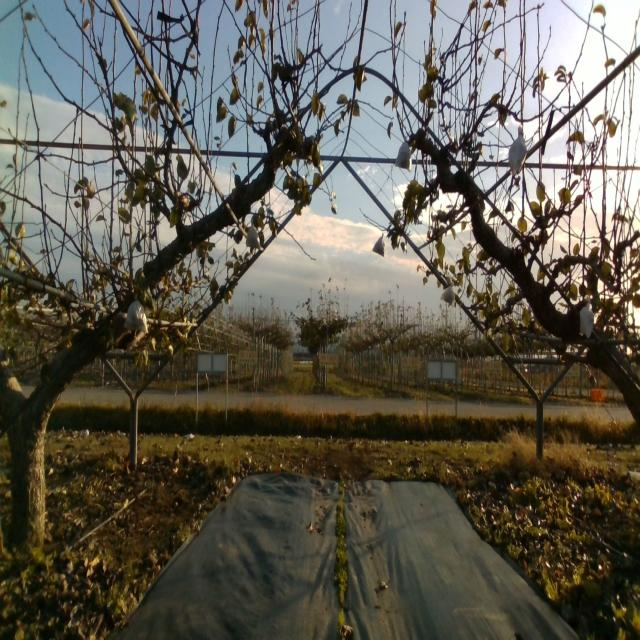pearbags: (123, 293, 149, 334), (508, 126, 528, 178), (580, 301, 595, 338), (394, 137, 411, 168), (442, 281, 458, 309), (245, 224, 261, 249), (372, 232, 385, 256)
